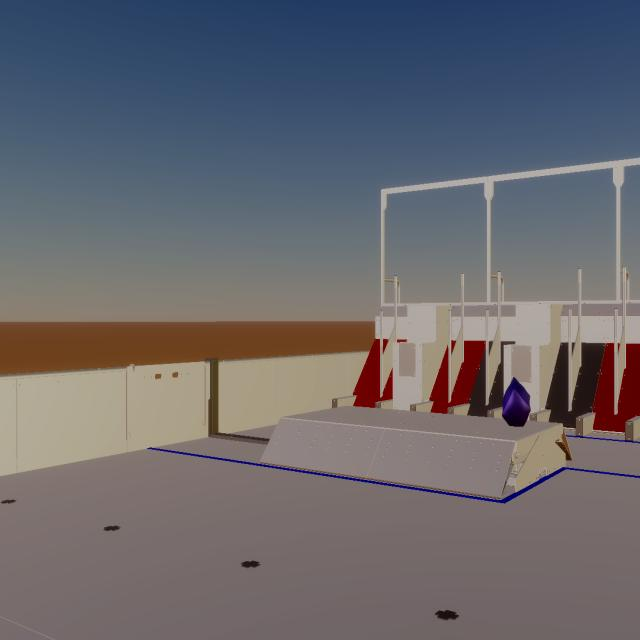frc_cube: (502, 377, 531, 427)
